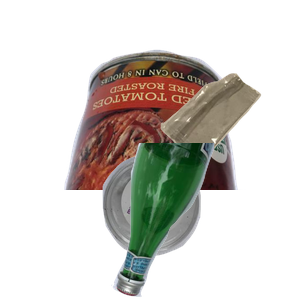glass: (109, 143, 300, 300)
metal: (62, 47, 300, 227)
plastic: (100, 152, 293, 300)
trash: (158, 71, 300, 227)
